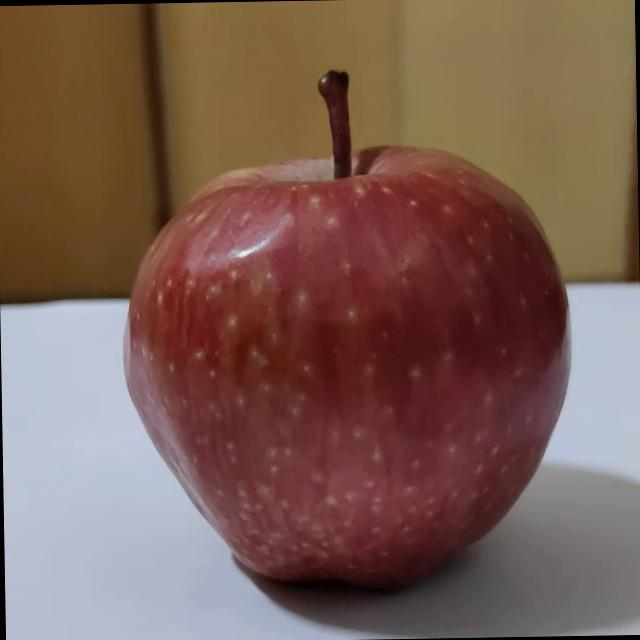apple: (25, 38, 598, 640)
